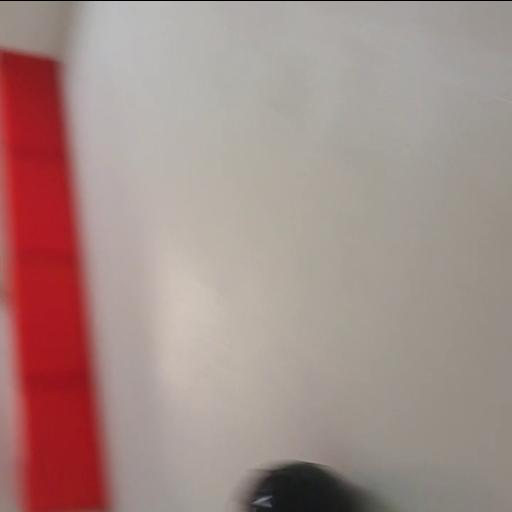dead: (228, 457, 368, 512)
